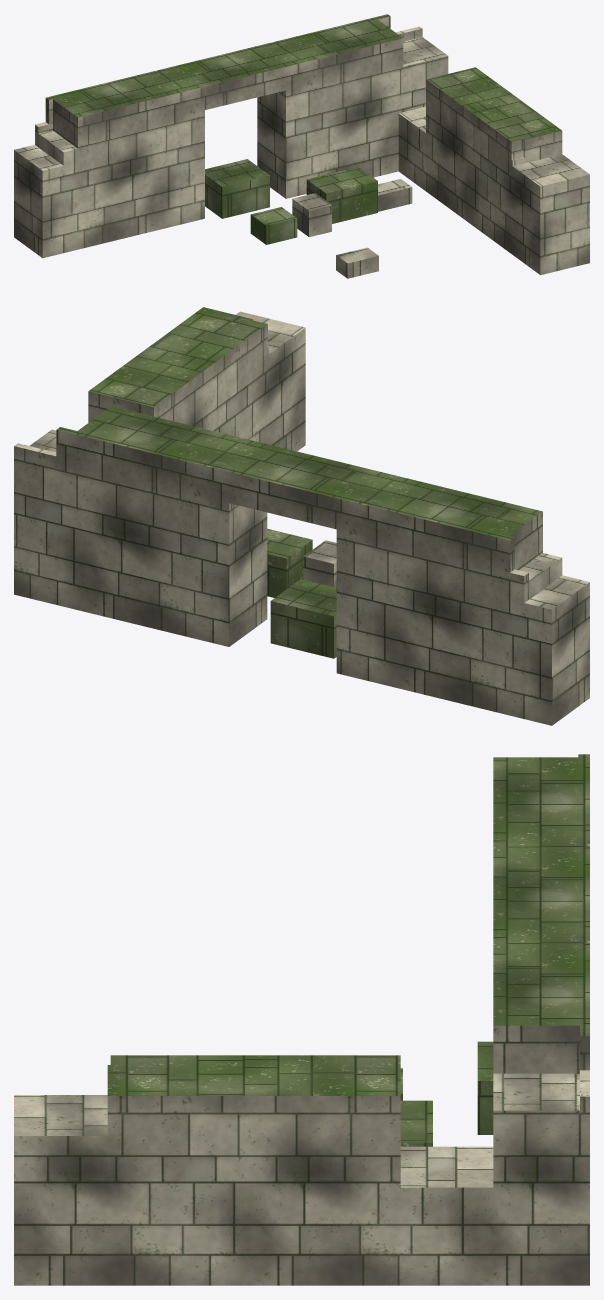
Rendered from ruin-wall-corner.ruins-v1.lod0.glb.
The picture shows the model from 3 angles, top to bottom: view 1: azimuth 30°, elevation 25°; view 2: azimuth 150°, elevation 25°; view 3: azimuth 270°, elevation 25°; orthographic projection. The views are drawn at different scales.
Visible parts, largest first — view 1: ruin-wall-corner; view 2: ruin-wall-corner; view 3: ruin-wall-corner.
Part boxes in pixels (box(x1,y1,x2,y2)): ruin-wall-corner: box(14, 14, 589, 278); ruin-wall-corner: box(14, 307, 589, 725); ruin-wall-corner: box(14, 754, 589, 1285).
Bounding box in the file's own units: 9 × 2.8 × 6.55.
2 materials, 2 textured.
